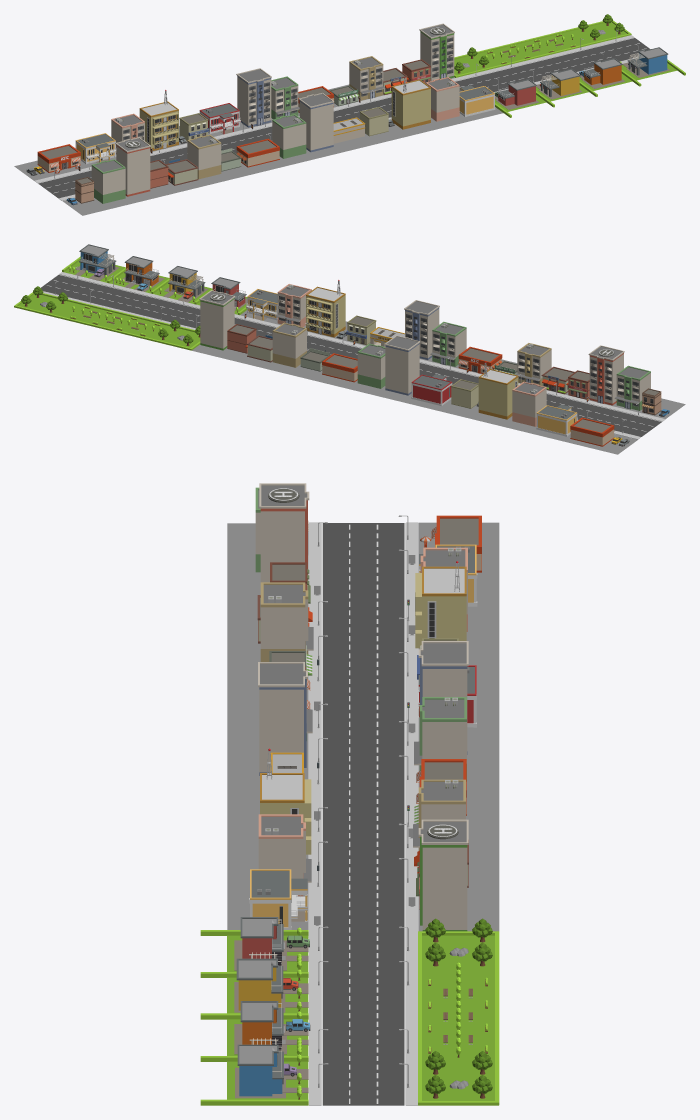
The model's file is EnvironmentProps.fbx.
3 renders of one model, top to bottom at view 1: azimuth 30°, elevation 25°; view 2: azimuth 150°, elevation 25°; view 3: azimuth 270°, elevation 25°, orthographic. The views are drawn at different scales.
Visible parts, largest first — view 1: EnvironmentProps; view 2: EnvironmentProps; view 3: EnvironmentProps.
Part boxes in pixels (left/top/right/bottom): EnvironmentProps: left=14, top=14, right=685, bottom=215; EnvironmentProps: left=14, top=244, right=685, bottom=454; EnvironmentProps: left=200, top=483, right=499, bottom=1105.
Size of the model in its own units: 34016 by 2707 by 7362.
34 materials, 34 textured.
